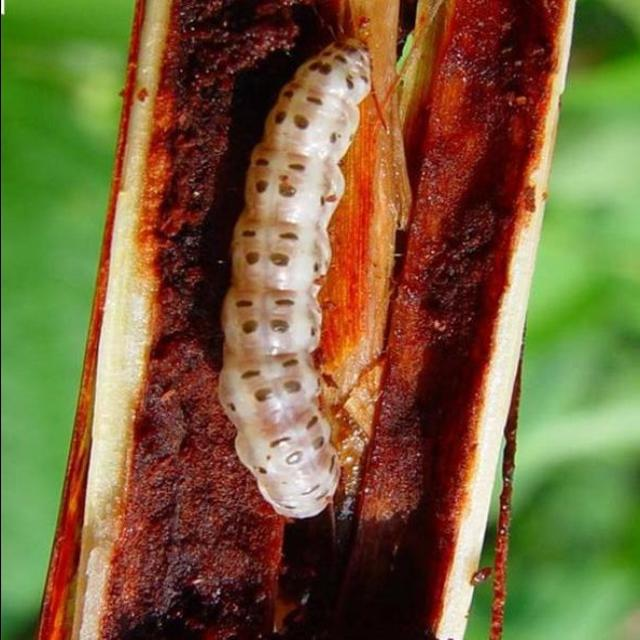peach borer: (213, 37, 377, 541)
